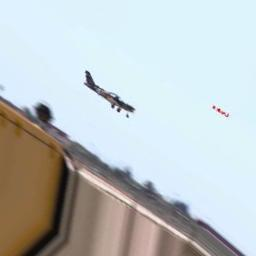Airplane: (84, 69, 136, 117)
